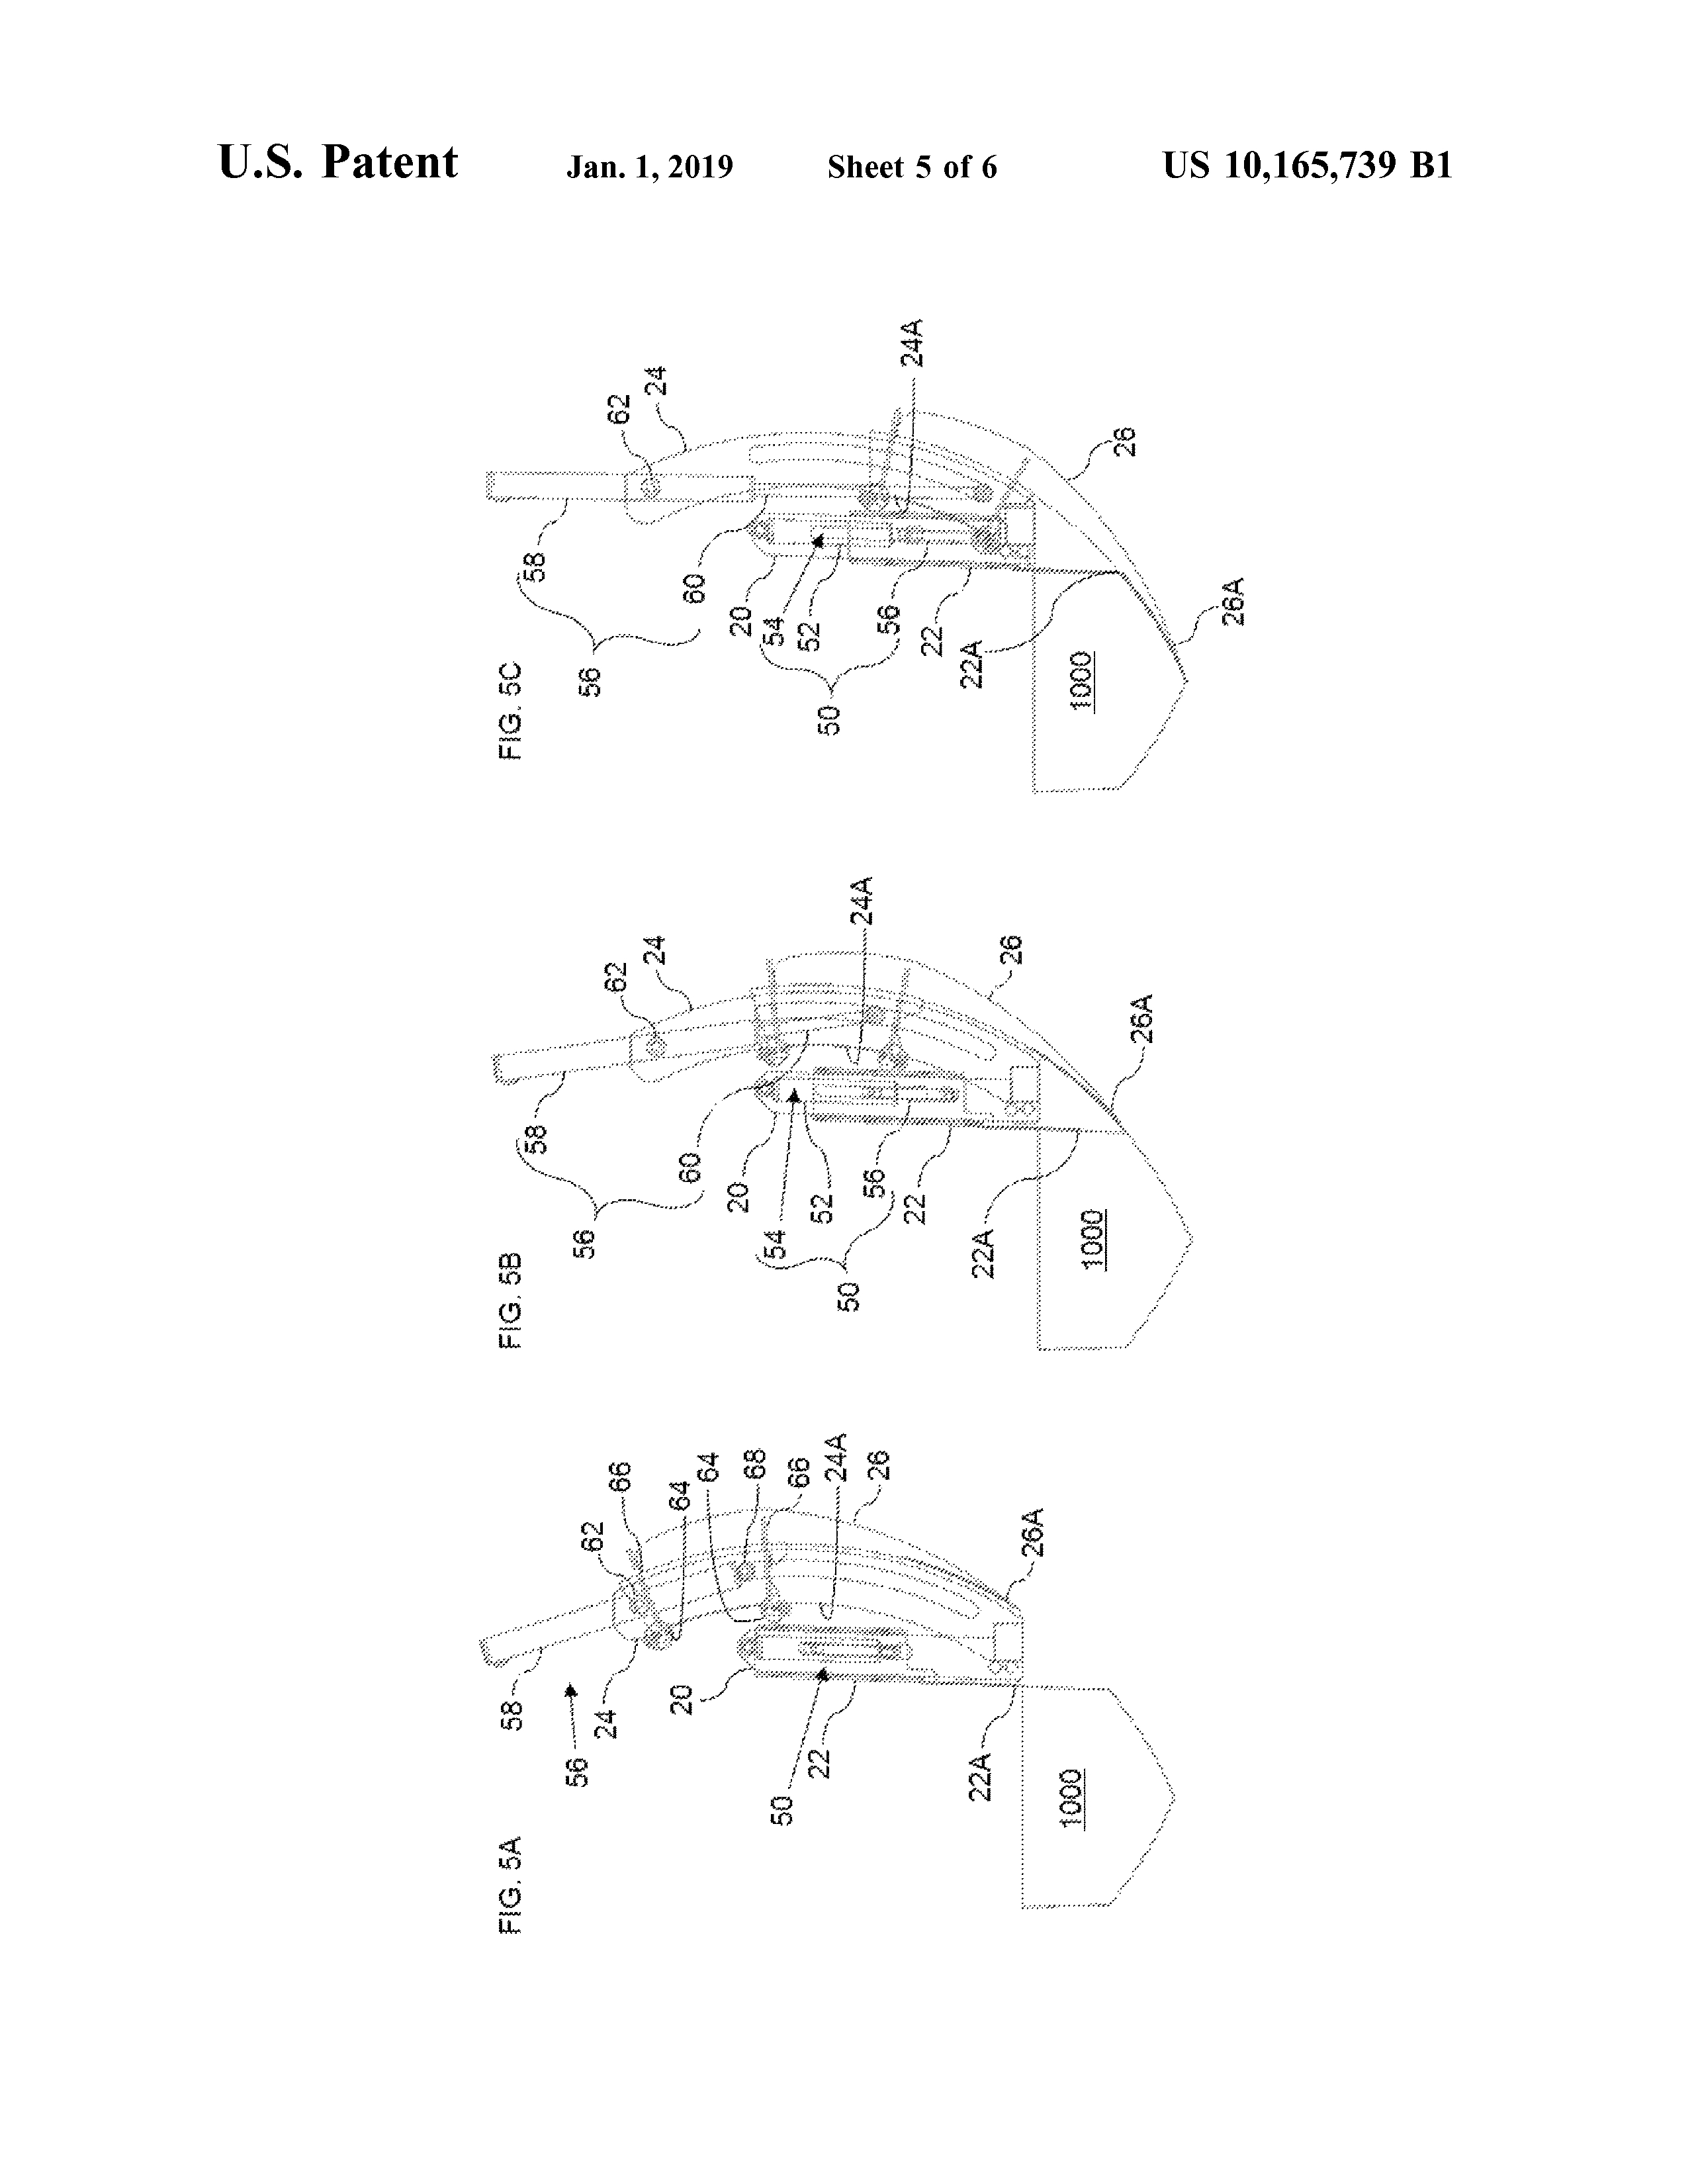patent image: (470, 1423, 1212, 1993), (465, 871, 1270, 1392), (446, 295, 1262, 802)
